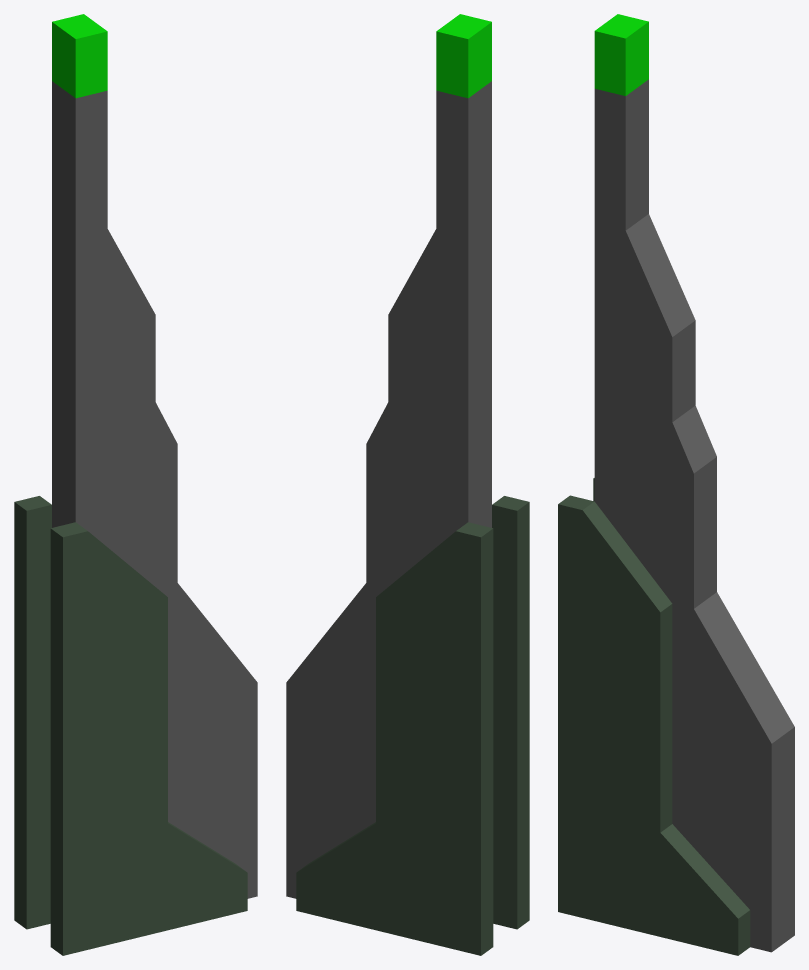
File: Antenna.fbx
The picture shows the model from 3 angles, left to right: view 1: azimuth 30°, elevation 25°; view 2: azimuth 150°, elevation 25°; view 3: azimuth 330°, elevation 25°; orthographic projection. The views are drawn at different scales.
Parts seen in each view (by area): view 1: pCube1; view 2: pCube1; view 3: pCube1.
Boxes of the visible parts, x1,y1,x2,y2 form: pCube1: (14,14,257,955); pCube1: (286,14,529,955); pCube1: (558,14,794,955).
Size of the model in its own units: 5.02 by 20.89 by 2.03.
